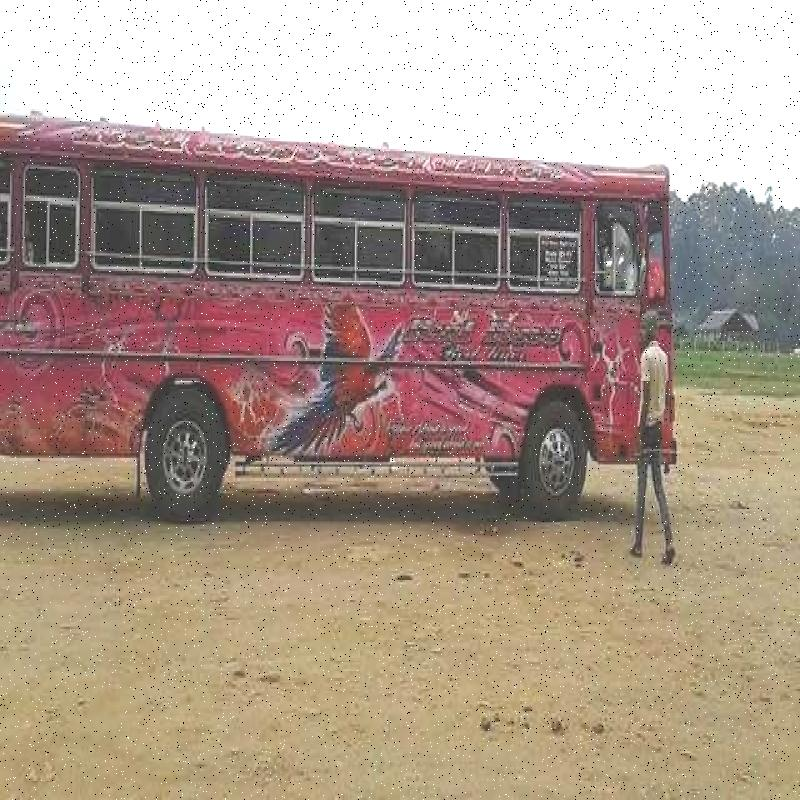bus: (19, 57, 710, 581)
